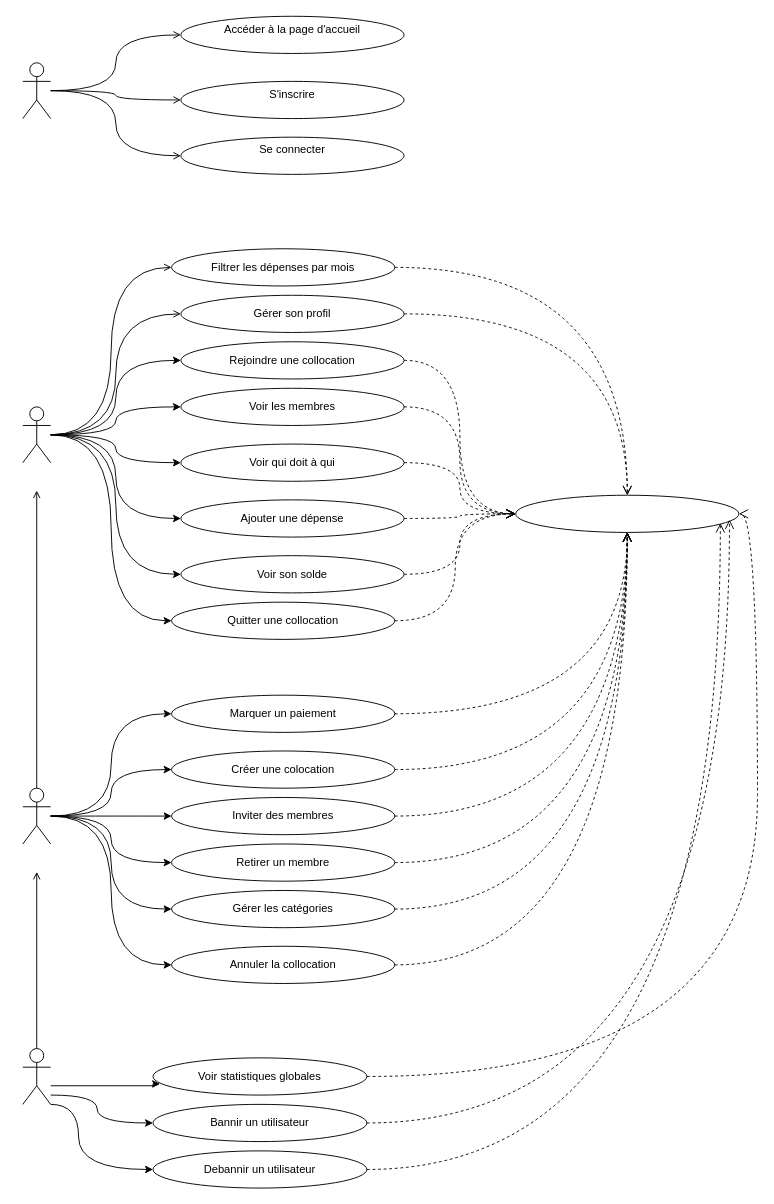
Image size: 774x1204. Some labels were removed from this diagram. The shapes that lost their labels are listed below. From the top down, each one's centre as x and y in pixels, then its label:
At (36,90): "Visiteur".
At (36,434): "member".
At (627,513): "authentification".
At (36,815): "Owner".
At (36,1076): "Admin".
